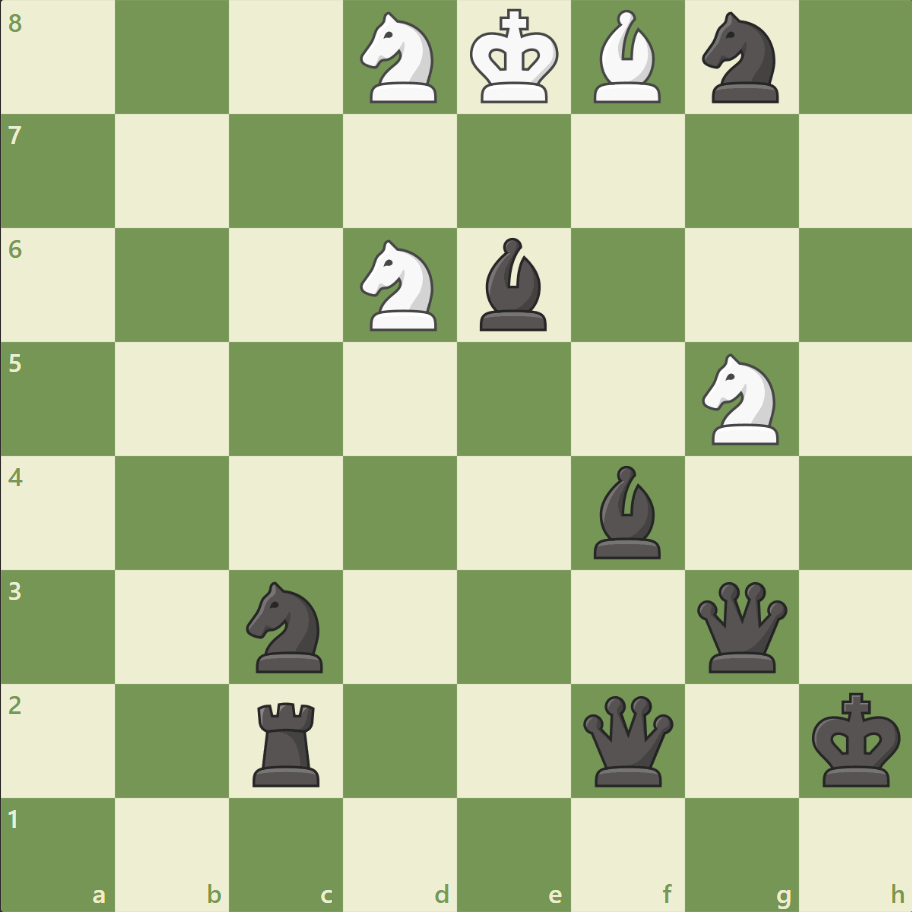B: (585, 6, 669, 109)
K: (465, 4, 565, 112)
N: (351, 7, 449, 110), (351, 234, 449, 337), (692, 348, 789, 450)
b: (471, 233, 555, 336), (585, 460, 669, 563)
k: (806, 685, 906, 793)
n: (692, 7, 789, 110), (238, 575, 335, 677)
q: (691, 576, 790, 676), (578, 690, 677, 789)
r: (246, 693, 329, 790)
